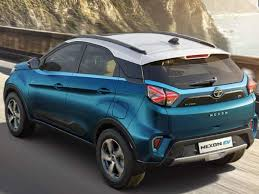Tata Nexon: (3, 29, 259, 192)
